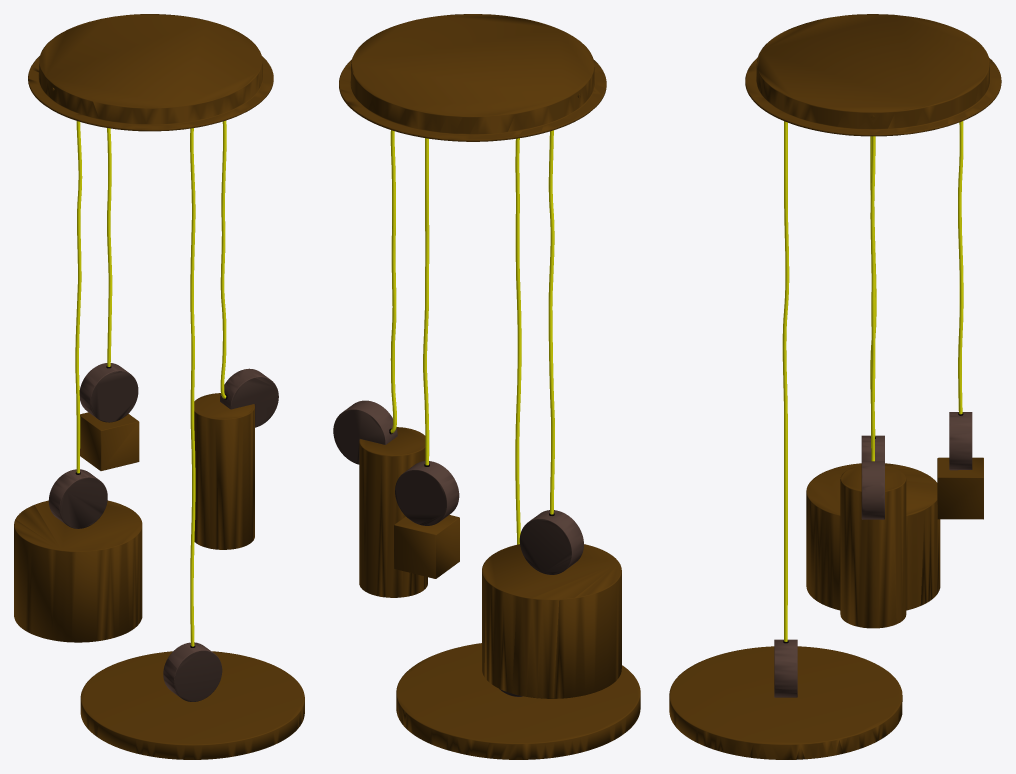
Rendered from designconnected-calee-pendants-8956.optimized.glb.
The picture shows the model from 3 angles, left to right: view 1: azimuth 30°, elevation 25°; view 2: azimuth 150°, elevation 25°; view 3: azimuth 270°, elevation 25°; orthographic projection. The views are drawn at different scales.
Parts seen in each view (by area): view 1: CVL_Calee_Pendant_Set; view 2: CVL_Calee_Pendant_Set; view 3: CVL_Calee_Pendant_Set.
Boxes of the visible parts, box(x1,y1,x2,y2) form: CVL_Calee_Pendant_Set: box(14, 14, 304, 759); CVL_Calee_Pendant_Set: box(333, 14, 640, 759); CVL_Calee_Pendant_Set: box(669, 14, 1001, 759).
Size of the model in its own units: 0.5185 by 1.23 by 0.57.
2 materials, 1 textured.
